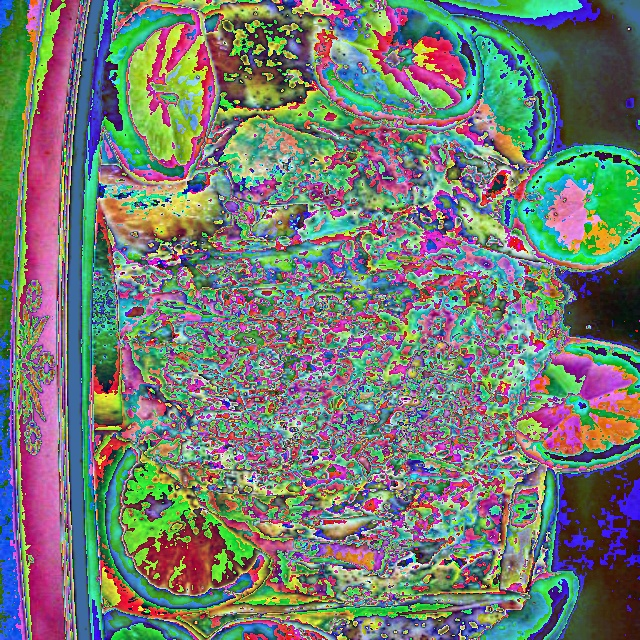background: (89, 0, 639, 640)
